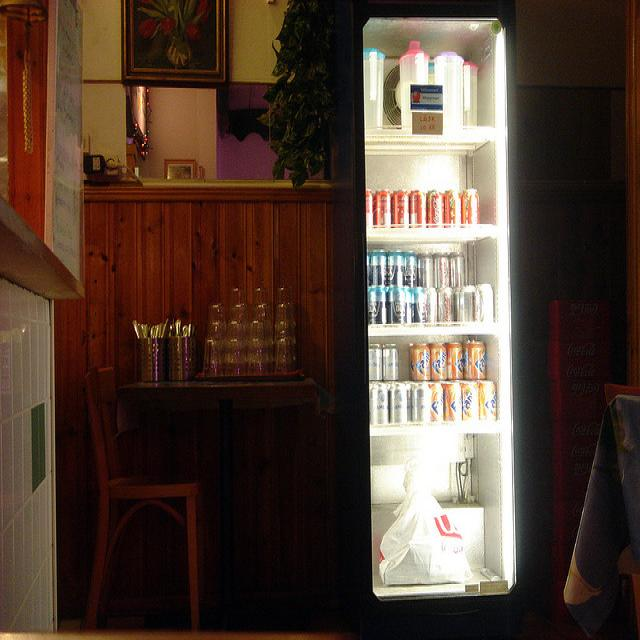Bottle: (434, 52, 472, 157), (393, 43, 430, 140), (433, 339, 467, 395), (453, 245, 493, 292), (461, 344, 490, 400), (406, 347, 435, 403), (447, 383, 482, 426), (408, 182, 430, 236), (462, 279, 485, 329), (423, 191, 449, 234), (427, 292, 457, 329), (399, 382, 428, 420), (400, 246, 425, 290), (370, 354, 390, 408), (425, 255, 453, 293), (374, 186, 395, 235), (382, 242, 399, 301), (388, 289, 411, 323), (457, 188, 473, 234), (393, 187, 406, 239), (445, 201, 460, 243), (413, 294, 430, 322)
Cup: (271, 302, 304, 390), (211, 315, 243, 388), (242, 314, 268, 376), (222, 291, 259, 324)
Table: (112, 335, 327, 640), (526, 383, 640, 597)
chair: (58, 356, 242, 640)
